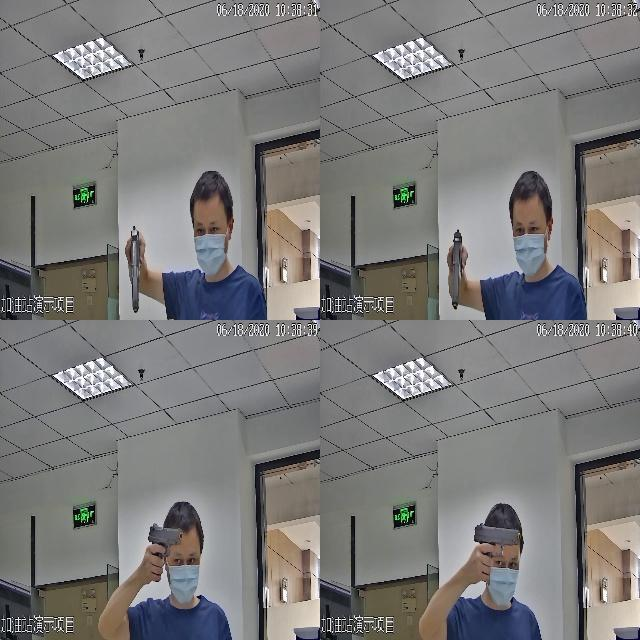gun-knife-thesis - v11 Yolov5 augmented: (472, 516, 521, 583), (147, 520, 182, 583), (444, 225, 469, 307), (122, 230, 141, 311)
